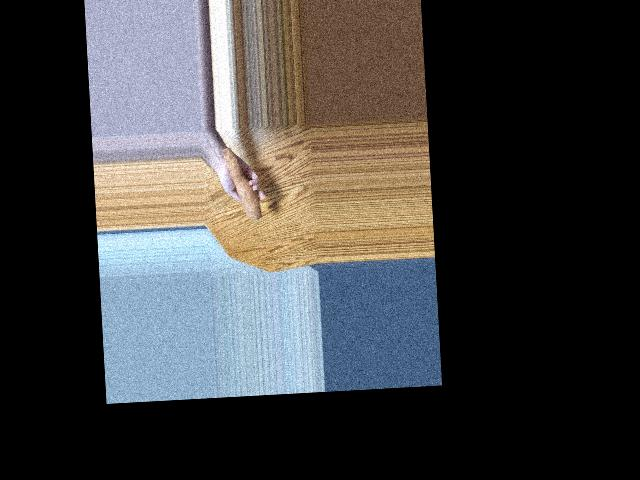sweet_potato: (220, 143, 263, 222)
